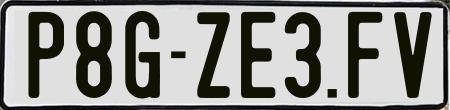3: (284, 9, 320, 96)
8: (73, 9, 112, 98)
E: (241, 10, 276, 100)
F: (348, 11, 387, 99)
G: (122, 8, 163, 99)
P: (28, 11, 66, 102)
V: (392, 10, 436, 102)
Z: (196, 12, 230, 104)
